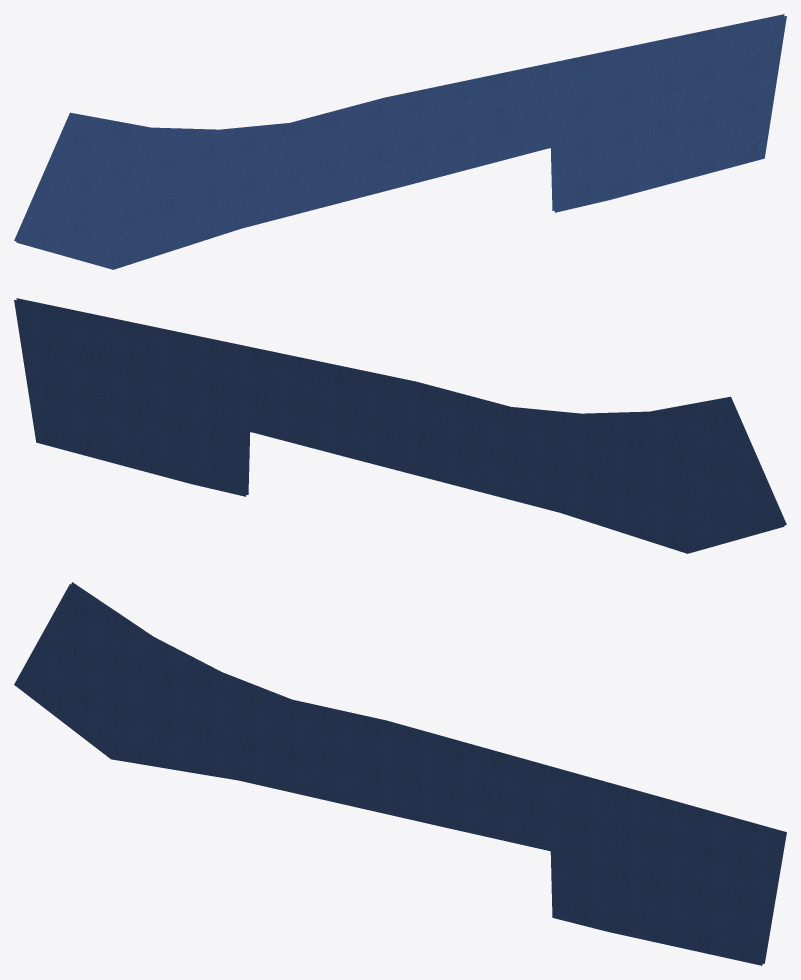
The model's file is floor_1.obj.
3 renders of one model, top to bottom at view 1: azimuth 30°, elevation 25°; view 2: azimuth 150°, elevation 25°; view 3: azimuth 330°, elevation 25°, orthographic.
Parts seen in each view (by area): view 1: floor_1; view 2: floor_1; view 3: floor_1.
Part boxes in pixels (left/top/right/bottom): floor_1: left=14, top=14, right=786, bottom=269; floor_1: left=14, top=298, right=786, bottom=553; floor_1: left=14, top=582, right=786, bottom=965.
Bounding box in the file's own units: 18.49 × 4.97 × 0.1.
1 material, 1 textured.
